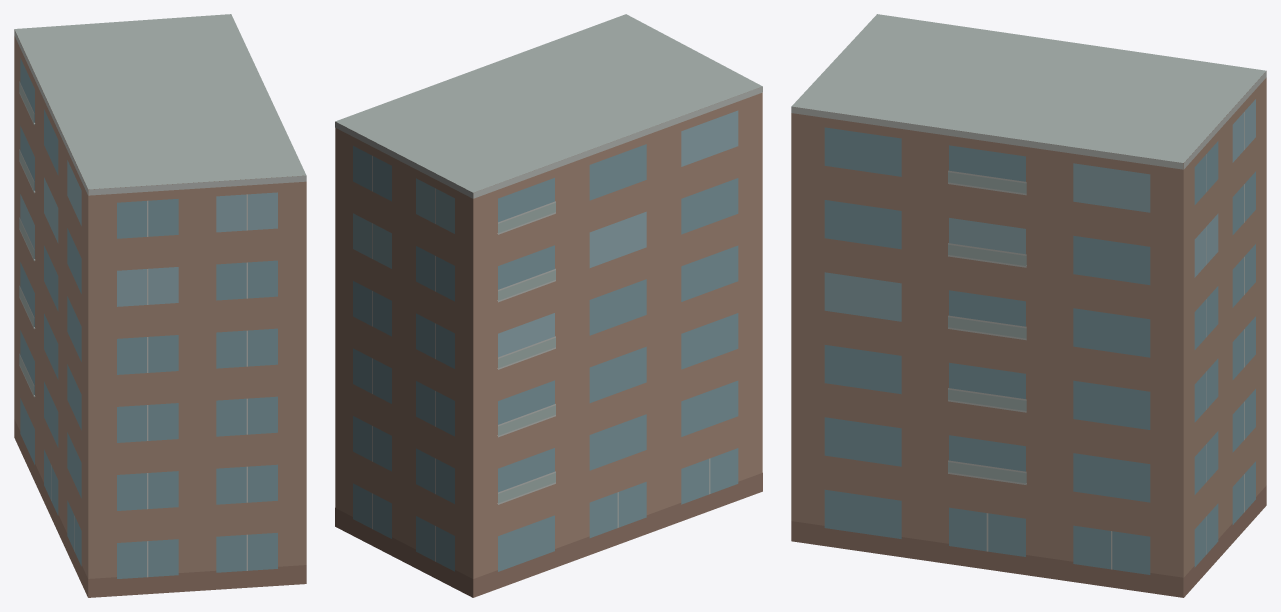
The model's file is survey-upis-32956491.glb.
3 renders of one model, left to right at view 1: azimuth 30°, elevation 25°; view 2: azimuth 150°, elevation 25°; view 3: azimuth 270°, elevation 25°, orthographic. The views are drawn at different scales.
Parts seen in each view (by area): view 1: survey-upis-32956491.tmp; view 2: survey-upis-32956491.tmp; view 3: survey-upis-32956491.tmp.
Boxes of the visible parts, bbox=[...] form: survey-upis-32956491.tmp: bbox=[14, 14, 306, 597]; survey-upis-32956491.tmp: bbox=[335, 14, 762, 597]; survey-upis-32956491.tmp: bbox=[791, 14, 1266, 597].
Size of the model in its own units: 11.93 by 16.2 by 16.06.
